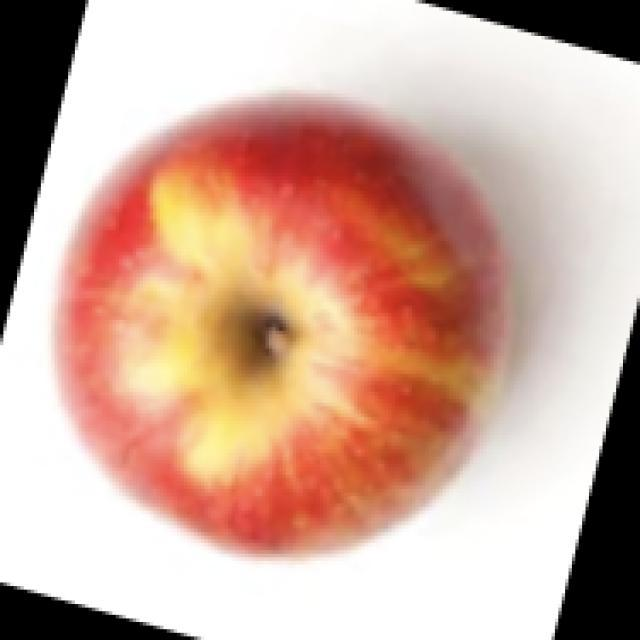Fresh Apple: (57, 93, 490, 550)
